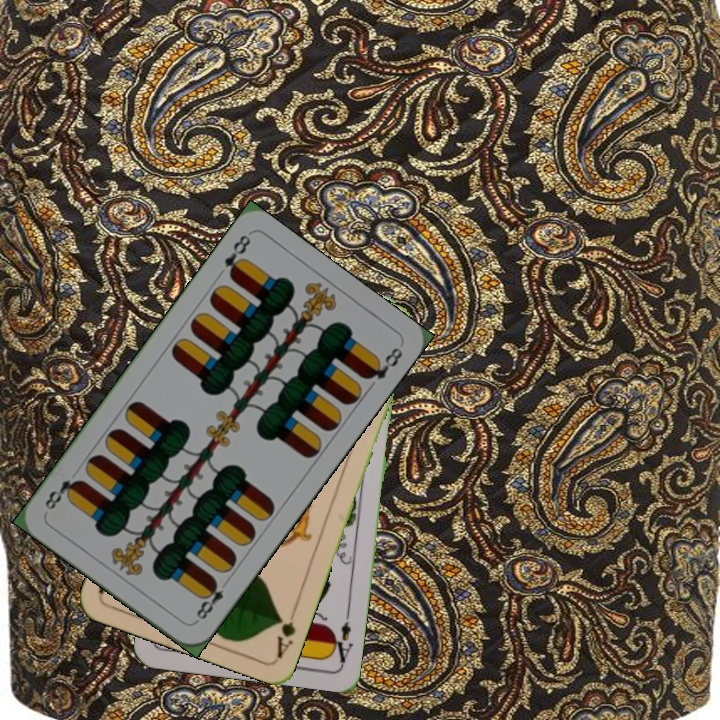E8: (191, 575, 232, 625), (220, 230, 254, 282)
EA: (327, 607, 356, 666)
GA: (272, 603, 300, 660)
